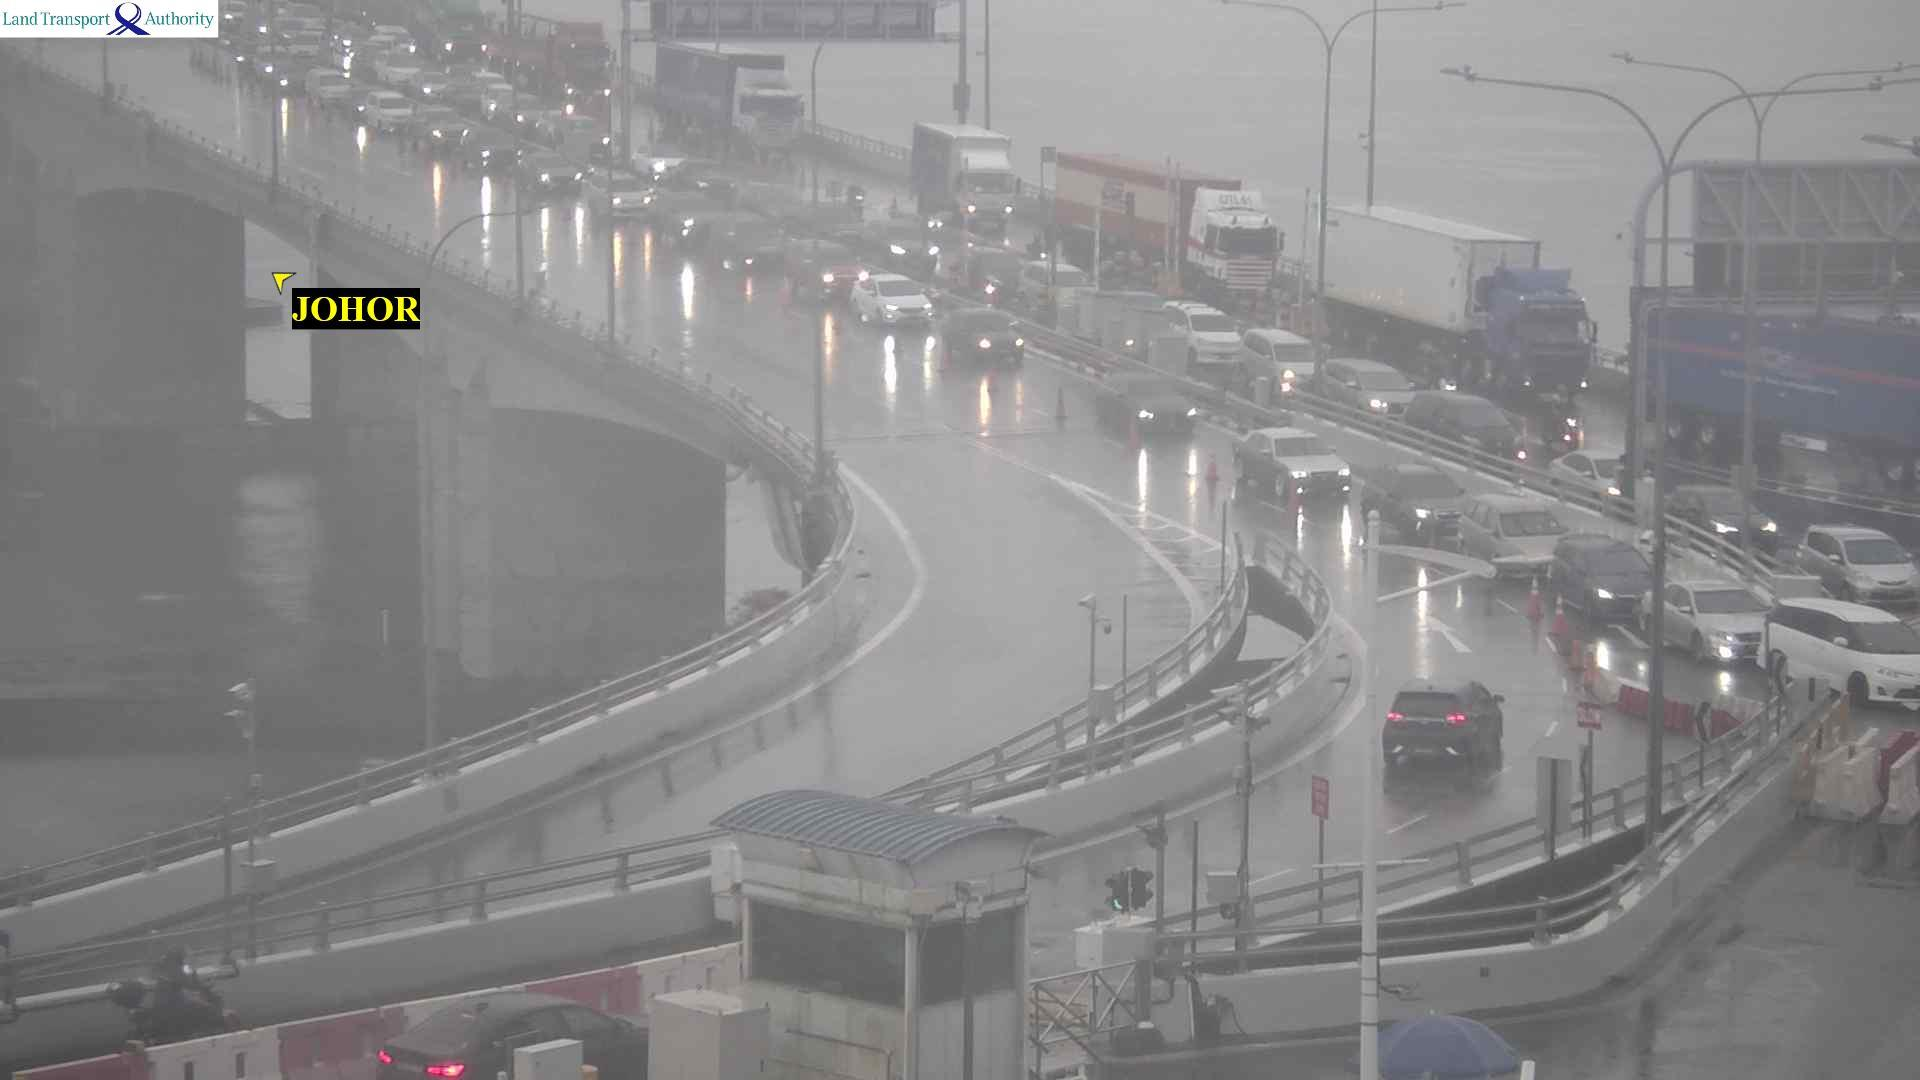vehicle-secondlink-johor: (375, 993, 640, 1080), (1391, 679, 1513, 774), (119, 948, 239, 1031), (489, 21, 613, 80)
vehicle-secondlink-singapore: (1644, 290, 1920, 485), (1317, 212, 1604, 352), (1046, 152, 1287, 264), (1762, 605, 1920, 695), (662, 46, 795, 142), (1640, 583, 1767, 657), (1804, 529, 1920, 609), (1234, 429, 1349, 500), (1402, 393, 1523, 454), (919, 120, 1038, 182), (1671, 487, 1775, 555), (1370, 464, 1461, 537), (1551, 541, 1647, 608), (1098, 371, 1191, 440), (1452, 506, 1567, 558), (1556, 450, 1656, 504), (857, 273, 940, 335), (1308, 363, 1423, 406), (1164, 303, 1242, 365), (1238, 330, 1324, 381), (785, 244, 857, 299), (945, 310, 1017, 364), (413, 107, 483, 158), (587, 167, 650, 214), (522, 153, 582, 194), (364, 92, 417, 137), (464, 132, 521, 171), (306, 74, 356, 113)
